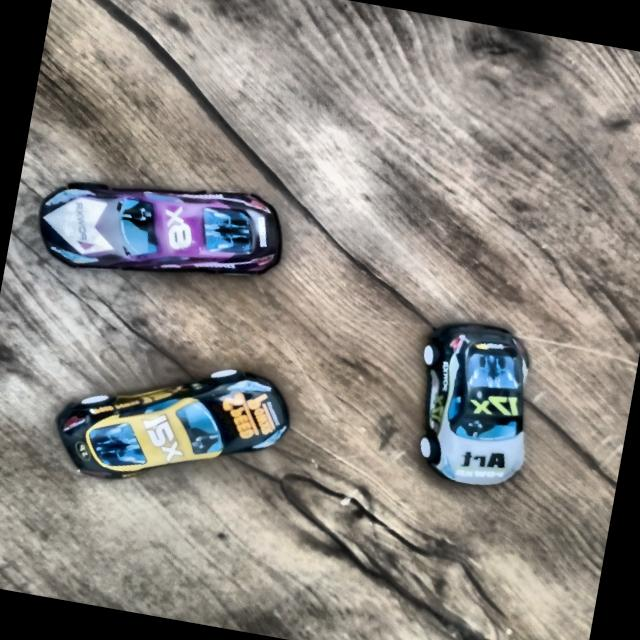Car: (41, 335, 300, 516), (28, 154, 291, 308), (396, 306, 566, 498)
